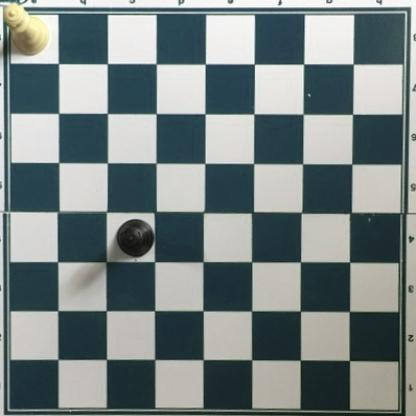black-queen: (115, 218, 154, 259)
white-queen: (2, 1, 51, 57)
